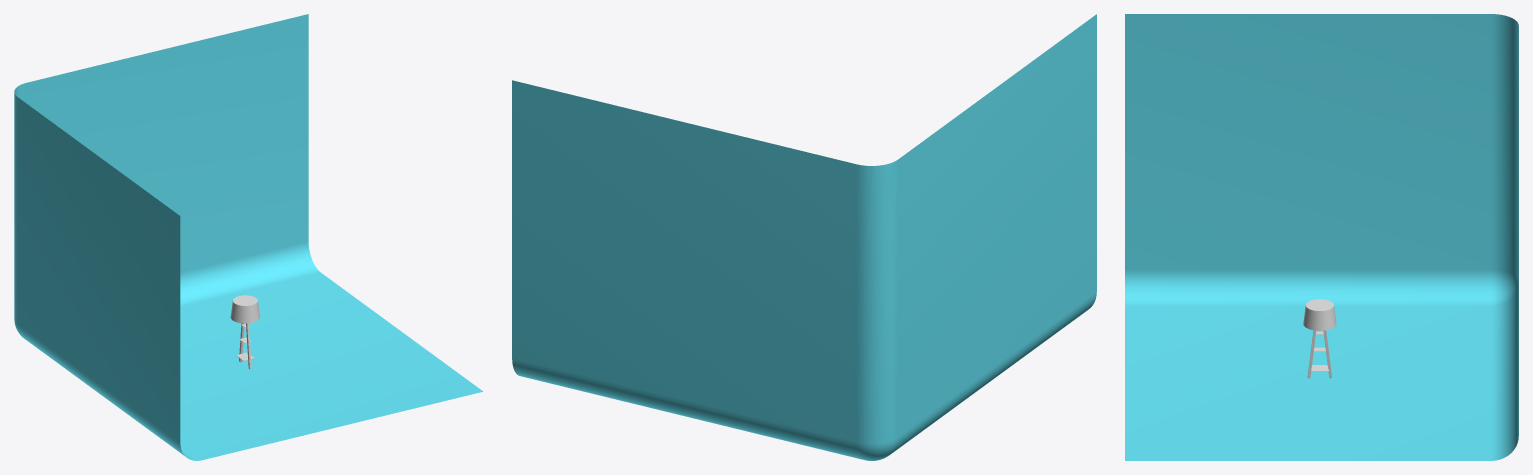
The model's file is uploads_files_3078584_lamp.fbx.
The picture shows the model from 3 angles, left to right: view 1: azimuth 30°, elevation 25°; view 2: azimuth 150°, elevation 25°; view 3: azimuth 270°, elevation 25°; orthographic projection. The views are drawn at different scales.
Visible parts, largest first — view 1: Plane.003, Circle; view 2: Plane.003; view 3: Plane.003, Circle.
Boxes of the visible parts, x1,y1,x2,y2 form: Plane.003: [14, 14, 482, 460]; Circle: [230, 295, 259, 323]; Plane.003: [512, 14, 1096, 460]; Plane.003: [1125, 14, 1518, 460]; Circle: [1303, 299, 1336, 330].
Bounding box in the file's own units: 2000 × 1574 × 2000.
